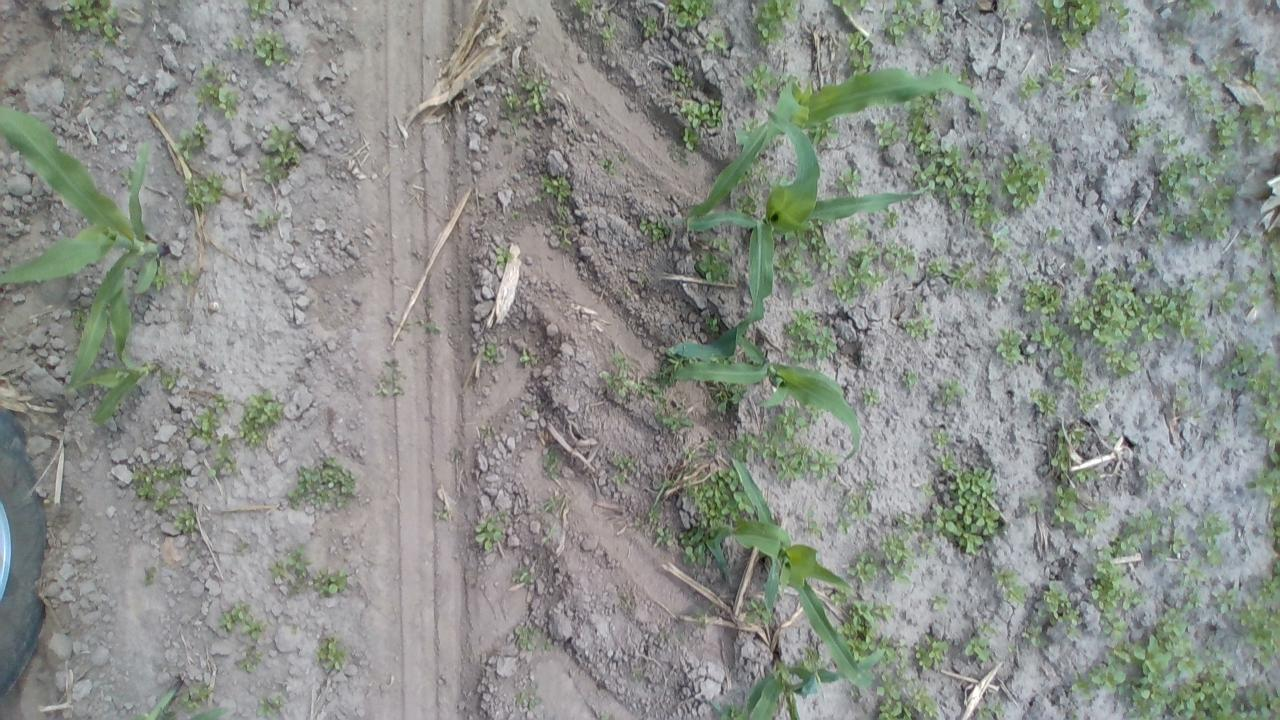Maize: (666, 100, 928, 365), (0, 105, 176, 392), (686, 70, 984, 212), (710, 458, 872, 691), (664, 336, 861, 458), (59, 278, 162, 427), (707, 648, 882, 720), (133, 679, 227, 720)
Weeds: (1133, 659, 1280, 720), (916, 143, 1001, 228), (1160, 151, 1236, 241), (931, 466, 1000, 558), (731, 432, 836, 488), (1071, 268, 1148, 342), (1090, 544, 1145, 642), (1146, 286, 1218, 354), (1133, 608, 1204, 676), (1003, 140, 1053, 212), (288, 458, 354, 512), (1036, 0, 1104, 49), (694, 469, 754, 522), (1251, 354, 1280, 463), (1051, 485, 1112, 534), (1068, 648, 1130, 696), (132, 459, 188, 512), (257, 126, 301, 192), (782, 310, 839, 360), (829, 256, 887, 302), (674, 97, 724, 150), (1238, 604, 1280, 667), (238, 395, 284, 449), (852, 241, 917, 277), (836, 480, 876, 535), (1115, 509, 1155, 560), (59, 1, 114, 38), (1257, 466, 1280, 554), (874, 665, 910, 720), (878, 530, 914, 584), (1162, 503, 1196, 558), (196, 82, 244, 120), (1044, 580, 1082, 627), (754, 0, 796, 42), (1110, 65, 1150, 108), (602, 352, 640, 397), (1020, 278, 1064, 316), (1052, 334, 1088, 380), (1050, 426, 1084, 474), (884, 0, 920, 44), (967, 615, 999, 664), (995, 562, 1028, 604), (184, 172, 226, 204), (912, 633, 948, 670), (906, 117, 941, 155), (810, 228, 841, 270), (1185, 73, 1216, 114), (1100, 350, 1141, 380), (906, 676, 938, 714), (523, 72, 551, 115), (853, 598, 898, 624), (176, 120, 212, 152), (208, 434, 235, 476), (772, 406, 805, 440), (1228, 336, 1258, 373), (1238, 103, 1265, 144), (1266, 231, 1280, 310), (1076, 382, 1109, 415), (715, 384, 747, 418), (994, 326, 1022, 364), (256, 33, 288, 66), (872, 114, 903, 148), (844, 621, 874, 656), (182, 410, 218, 439), (681, 528, 708, 566), (829, 167, 862, 198), (472, 518, 506, 548), (1199, 510, 1232, 540), (695, 250, 728, 280), (1125, 122, 1160, 150), (676, 0, 712, 27), (1030, 389, 1061, 420), (220, 600, 250, 632), (848, 552, 872, 591), (779, 270, 813, 297), (738, 66, 776, 90), (174, 505, 203, 536), (832, 0, 872, 22), (875, 635, 907, 662), (952, 259, 978, 292), (1246, 266, 1266, 308), (610, 452, 637, 483), (538, 175, 570, 201), (182, 684, 214, 710), (314, 570, 348, 594), (1260, 556, 1280, 596), (984, 265, 1012, 293), (1031, 320, 1059, 348), (1180, 558, 1206, 588), (660, 351, 680, 390), (250, 209, 285, 231), (1220, 280, 1244, 312), (902, 319, 938, 340), (661, 410, 692, 434), (317, 638, 343, 666), (906, 96, 939, 118), (197, 60, 230, 82), (1170, 378, 1190, 414), (1108, 0, 1132, 29), (637, 218, 668, 240), (1213, 585, 1238, 612), (1017, 74, 1042, 100), (813, 122, 839, 146), (744, 599, 770, 623), (711, 232, 738, 255), (1216, 114, 1234, 146), (1160, 132, 1184, 156), (670, 65, 694, 89), (514, 624, 538, 648), (1202, 542, 1224, 568), (258, 696, 284, 718), (1138, 468, 1168, 487), (939, 382, 966, 403), (237, 648, 264, 669), (1044, 59, 1067, 83), (739, 192, 760, 218), (654, 523, 674, 550), (288, 554, 310, 578), (1211, 56, 1230, 83), (852, 47, 874, 70), (542, 446, 560, 474), (1022, 624, 1044, 646), (998, 1, 1018, 25), (1214, 366, 1234, 390), (72, 304, 88, 334), (778, 251, 804, 269), (1188, 0, 1214, 18), (928, 256, 949, 278), (922, 8, 942, 31), (1245, 71, 1269, 90), (899, 510, 920, 531), (500, 93, 521, 114), (984, 228, 1006, 248), (932, 430, 952, 452), (824, 590, 848, 608), (1184, 589, 1202, 612), (231, 35, 250, 56), (242, 620, 264, 638), (248, 0, 270, 18), (1168, 29, 1184, 53), (1042, 226, 1066, 242), (978, 700, 1002, 716), (649, 503, 668, 523), (668, 146, 688, 165), (1243, 238, 1261, 258), (862, 389, 880, 409), (598, 23, 618, 41), (269, 558, 285, 580), (903, 371, 921, 390), (929, 594, 948, 612), (640, 380, 659, 398), (917, 536, 934, 556), (706, 35, 727, 51), (153, 268, 169, 288), (1074, 466, 1095, 481), (574, 0, 596, 14), (512, 566, 530, 583), (160, 373, 178, 390), (939, 452, 958, 468), (720, 706, 741, 720), (844, 32, 862, 48), (640, 20, 656, 38), (850, 220, 864, 240), (1204, 640, 1220, 657), (214, 394, 233, 408), (804, 406, 824, 419), (886, 210, 900, 228), (809, 518, 823, 536), (558, 207, 570, 228), (706, 438, 719, 457), (1022, 498, 1038, 513), (94, 47, 108, 64), (177, 270, 194, 284), (558, 230, 570, 249), (144, 566, 158, 582), (684, 444, 696, 462), (1020, 254, 1034, 268), (424, 320, 438, 334), (1122, 212, 1134, 228), (1266, 114, 1280, 127), (494, 248, 508, 261), (1134, 258, 1150, 269), (376, 381, 386, 398), (393, 385, 406, 398), (484, 344, 496, 358), (922, 485, 934, 498), (436, 505, 448, 518), (709, 319, 720, 333), (111, 87, 122, 100), (666, 1, 678, 12), (520, 352, 530, 365), (602, 157, 612, 170), (437, 674, 448, 685), (386, 359, 400, 367), (521, 408, 532, 416), (479, 427, 489, 435)
